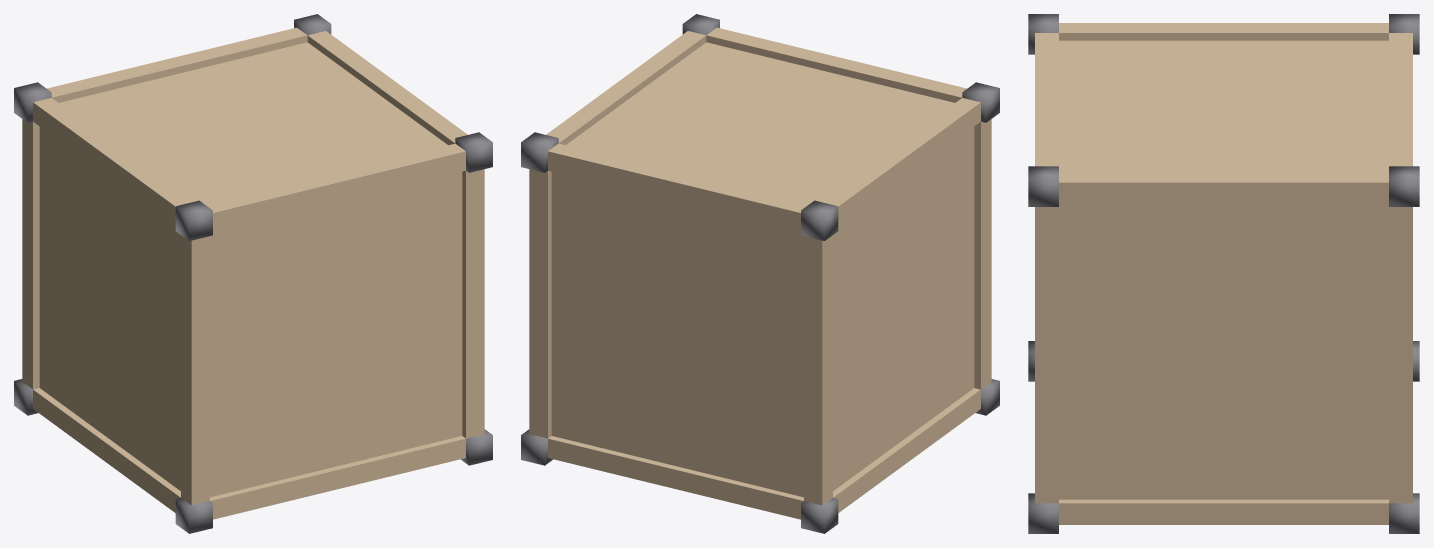
File: crate_wood.glb
3 views of the same model, side by side, from view 1: azimuth 30°, elevation 25°; view 2: azimuth 150°, elevation 25°; view 3: azimuth 270°, elevation 25° (orthographic). The views are drawn at different scales.
Parts seen in each view (by area): view 1: Cube, Cube.001, Cube.011, Cube.003, Cube.007, Cube.009, Cube.002, Cube.012, Cube.005, Cube.010, Cube.014, Cube.013 (+5 smaller); view 2: Cube, Cube.002, Cube.012, Cube.004, Cube.008, Cube.009, Cube.001, Cube.011, Cube.005, Cube.010, Cube.016, Cube.015 (+5 smaller); view 3: Cube, Cube.010, Cube.006, Cube.003, Cube.004, Cube.009, Cube.011, Cube.012, Cube.018, Cube.020, Cube.017, Cube.019 (+2 smaller).
Part boxes in pixels (x1,y1,x2,y2): Cube: (39, 42, 462, 497); Cube.001: (181, 235, 209, 505); Cube.011: (205, 143, 465, 232); Cube.003: (462, 169, 484, 438); Cube.007: (210, 436, 465, 519); Cube.009: (33, 98, 193, 225); Cube.002: (22, 119, 39, 389); Cube.012: (47, 27, 307, 102); Cube.005: (33, 388, 180, 512); Cube.010: (307, 31, 467, 145); Cube.014: (175, 200, 212, 240); Cube.013: (175, 498, 212, 533); Cube: (551, 42, 974, 497); Cube.002: (804, 235, 832, 505); Cube.012: (548, 143, 808, 232); Cube.004: (529, 169, 551, 438); Cube.008: (548, 436, 803, 519); Cube.009: (820, 98, 980, 225); Cube.001: (974, 119, 991, 389); Cube.011: (706, 27, 966, 102); Cube.005: (833, 388, 980, 512); Cube.010: (546, 31, 706, 145); Cube.016: (801, 200, 838, 240); Cube.015: (801, 498, 838, 533); Cube: (1059, 40, 1388, 499); Cube.010: (1059, 172, 1388, 204); Cube.006: (1059, 499, 1388, 524); Cube.003: (1035, 207, 1058, 503); Cube.004: (1389, 207, 1412, 503); Cube.009: (1059, 23, 1388, 40); Cube.011: (1035, 33, 1058, 166); Cube.012: (1389, 33, 1412, 166); Cube.018: (1028, 166, 1058, 206); Cube.020: (1389, 166, 1419, 206); Cube.017: (1028, 493, 1058, 533); Cube.019: (1389, 493, 1419, 533).
Bounding box in the file's own units: 0.575 × 0.575 × 0.575.
